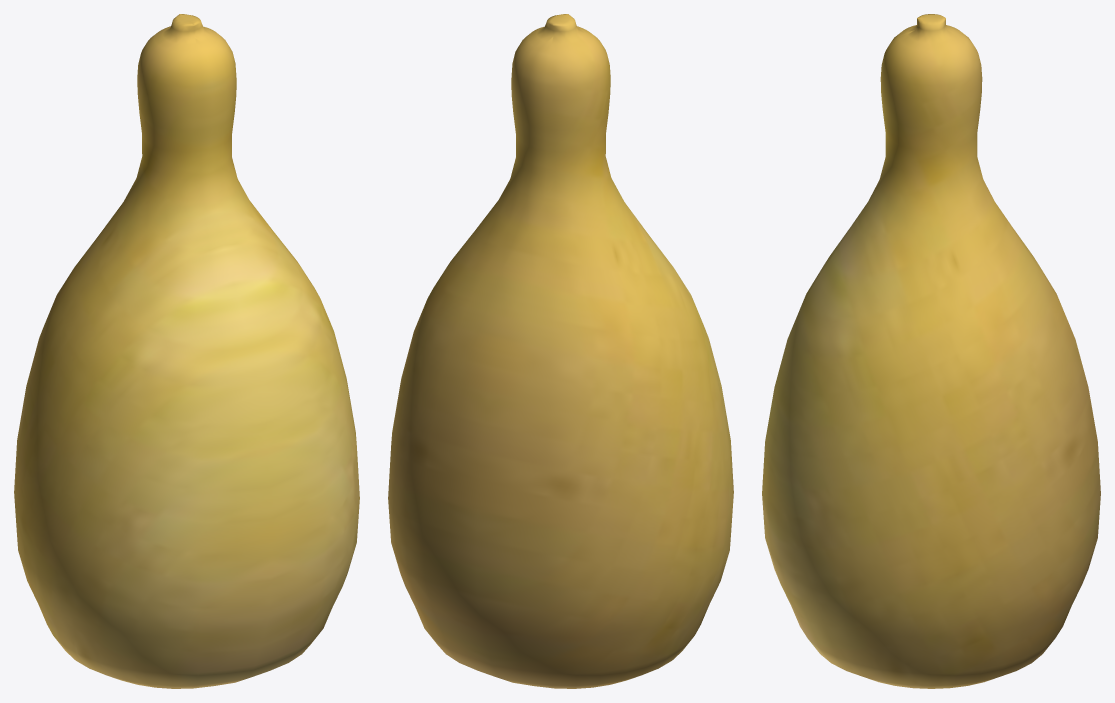
File: butternut squash.fbx
3 renders of one model, left to right at view 1: azimuth 30°, elevation 25°; view 2: azimuth 150°, elevation 25°; view 3: azimuth 270°, elevation 25°, orthographic.
Parts seen in each view (by area): view 1: Cylinder; view 2: Cylinder; view 3: Cylinder.
Part boxes in pixels (x1=…): Cylinder: x1=14, y1=14, x2=359, y2=688; Cylinder: x1=388, y1=14, x2=733, y2=688; Cylinder: x1=762, y1=14, x2=1100, y2=688.
Bounding box in the file's own units: 0.8358 × 1.69 × 0.8131.
